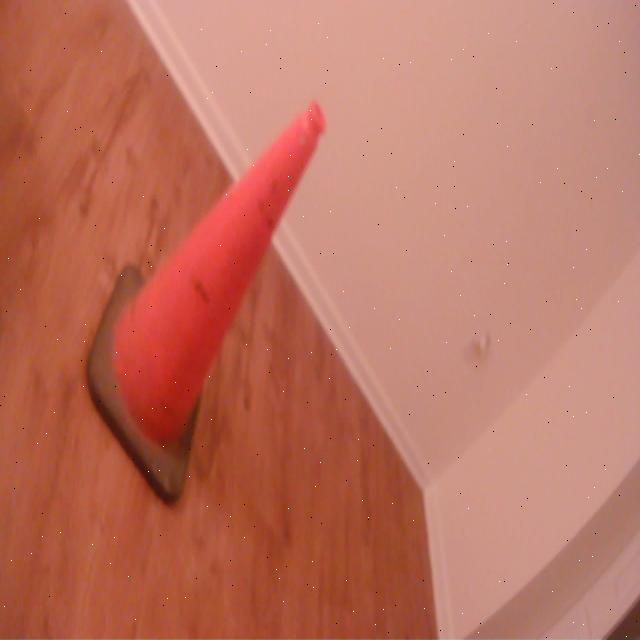traffic cone: (81, 98, 333, 516)
